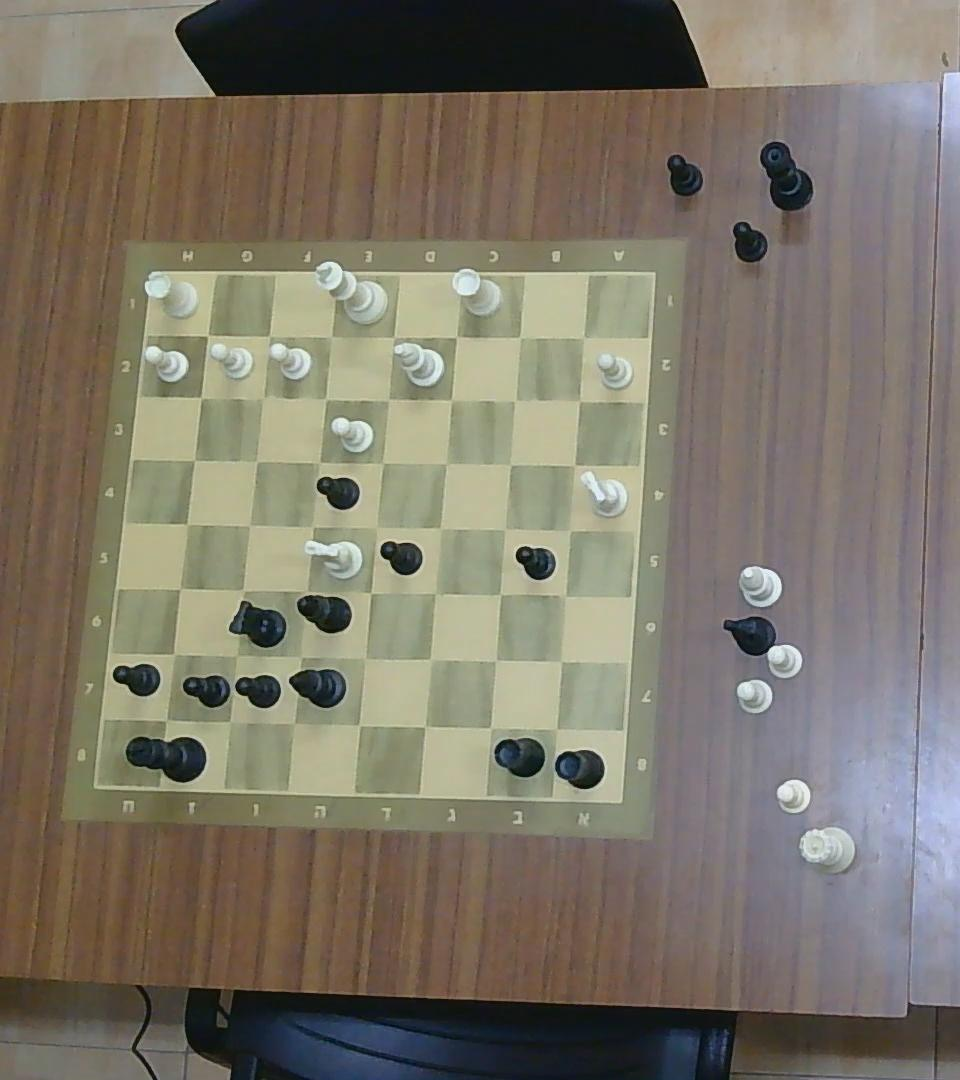xcorner: (191, 322, 222, 354), (370, 386, 400, 418), (377, 324, 409, 352), (185, 383, 213, 413), (180, 446, 207, 474), (158, 641, 186, 667), (153, 708, 182, 733), (348, 647, 378, 671), (489, 517, 515, 544), (229, 578, 259, 601), (438, 388, 464, 414), (425, 514, 451, 540), (418, 648, 444, 673), (243, 452, 270, 476), (555, 518, 582, 542), (306, 448, 329, 476), (174, 510, 198, 536), (300, 515, 324, 541), (356, 581, 382, 605), (476, 717, 503, 740), (314, 386, 336, 414), (166, 577, 191, 601), (550, 650, 575, 674), (545, 717, 570, 741), (569, 329, 596, 351), (257, 324, 278, 352), (487, 583, 511, 607), (219, 711, 243, 735), (317, 327, 340, 352), (345, 715, 371, 737), (499, 392, 526, 413), (434, 451, 457, 475), (224, 642, 245, 668), (284, 645, 310, 666), (443, 324, 465, 348), (249, 386, 271, 410), (498, 452, 520, 476), (552, 585, 576, 607), (238, 514, 258, 540), (506, 326, 531, 346), (372, 454, 394, 476), (414, 715, 436, 737), (364, 516, 384, 538), (424, 584, 444, 606), (284, 714, 306, 734), (482, 652, 505, 671), (572, 392, 592, 413), (562, 456, 583, 475), (297, 583, 313, 600)
